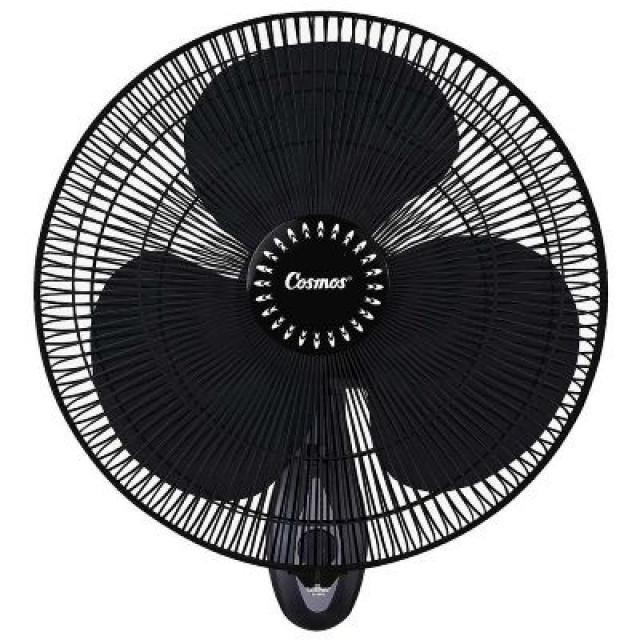fan: (25, 11, 611, 632)
